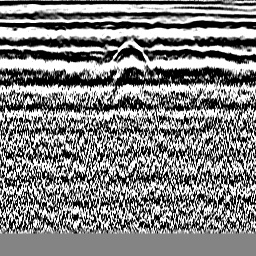cavity: (109, 39, 150, 63)
